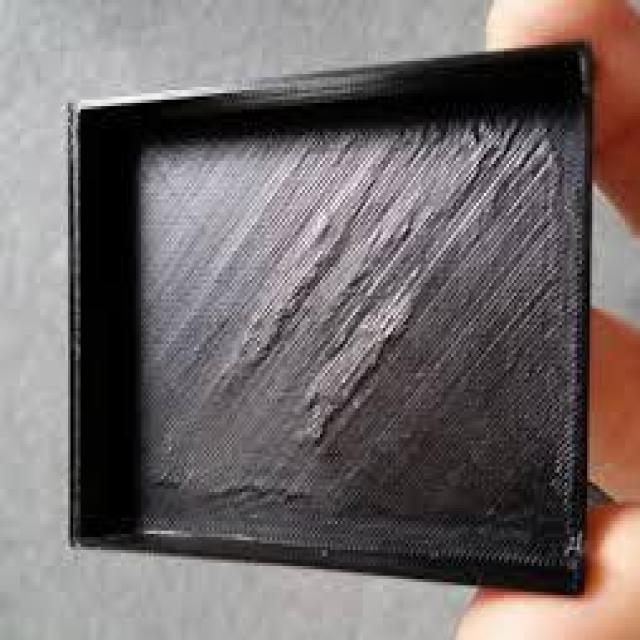spaghetti: (146, 99, 578, 532)
